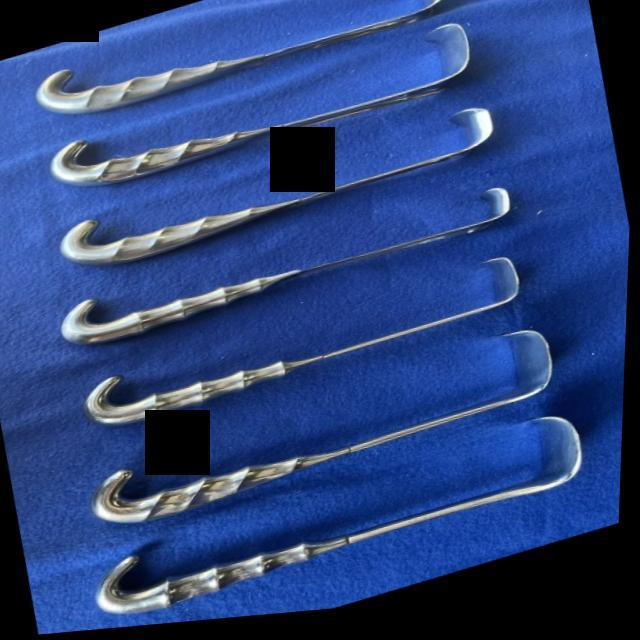Deaver Retractor: (81, 413, 598, 633), (79, 328, 568, 546), (47, 252, 534, 457), (39, 180, 526, 369), (39, 100, 510, 294), (37, 21, 480, 217), (17, 0, 465, 141)
